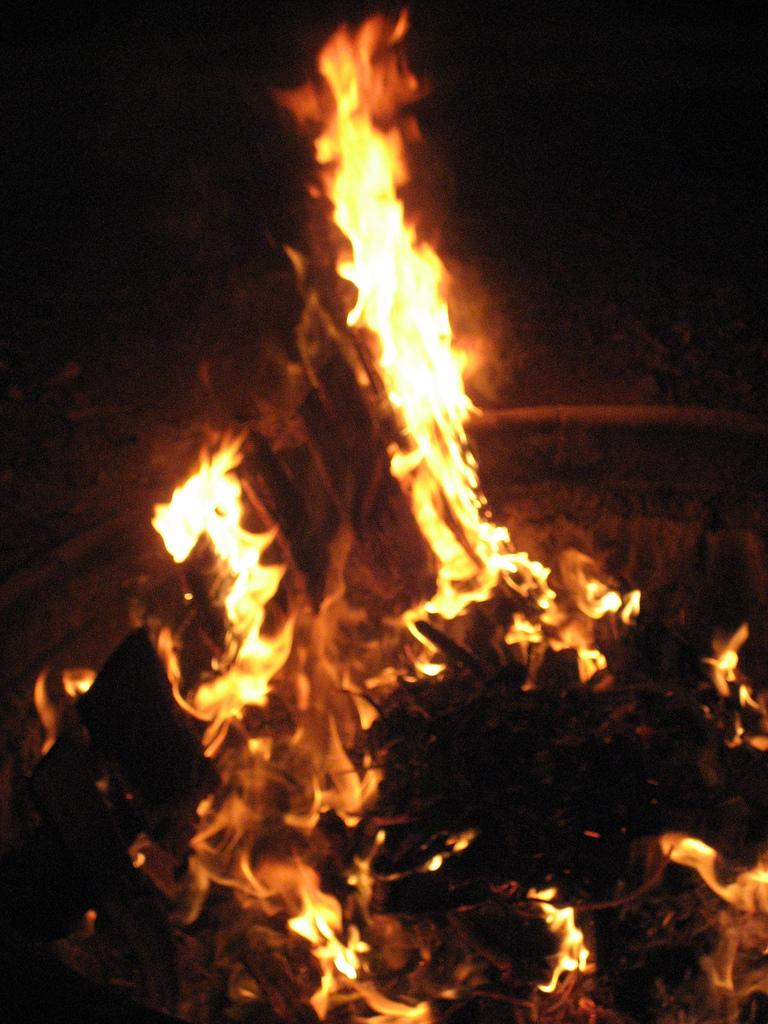fire: (372, 202, 455, 430)
